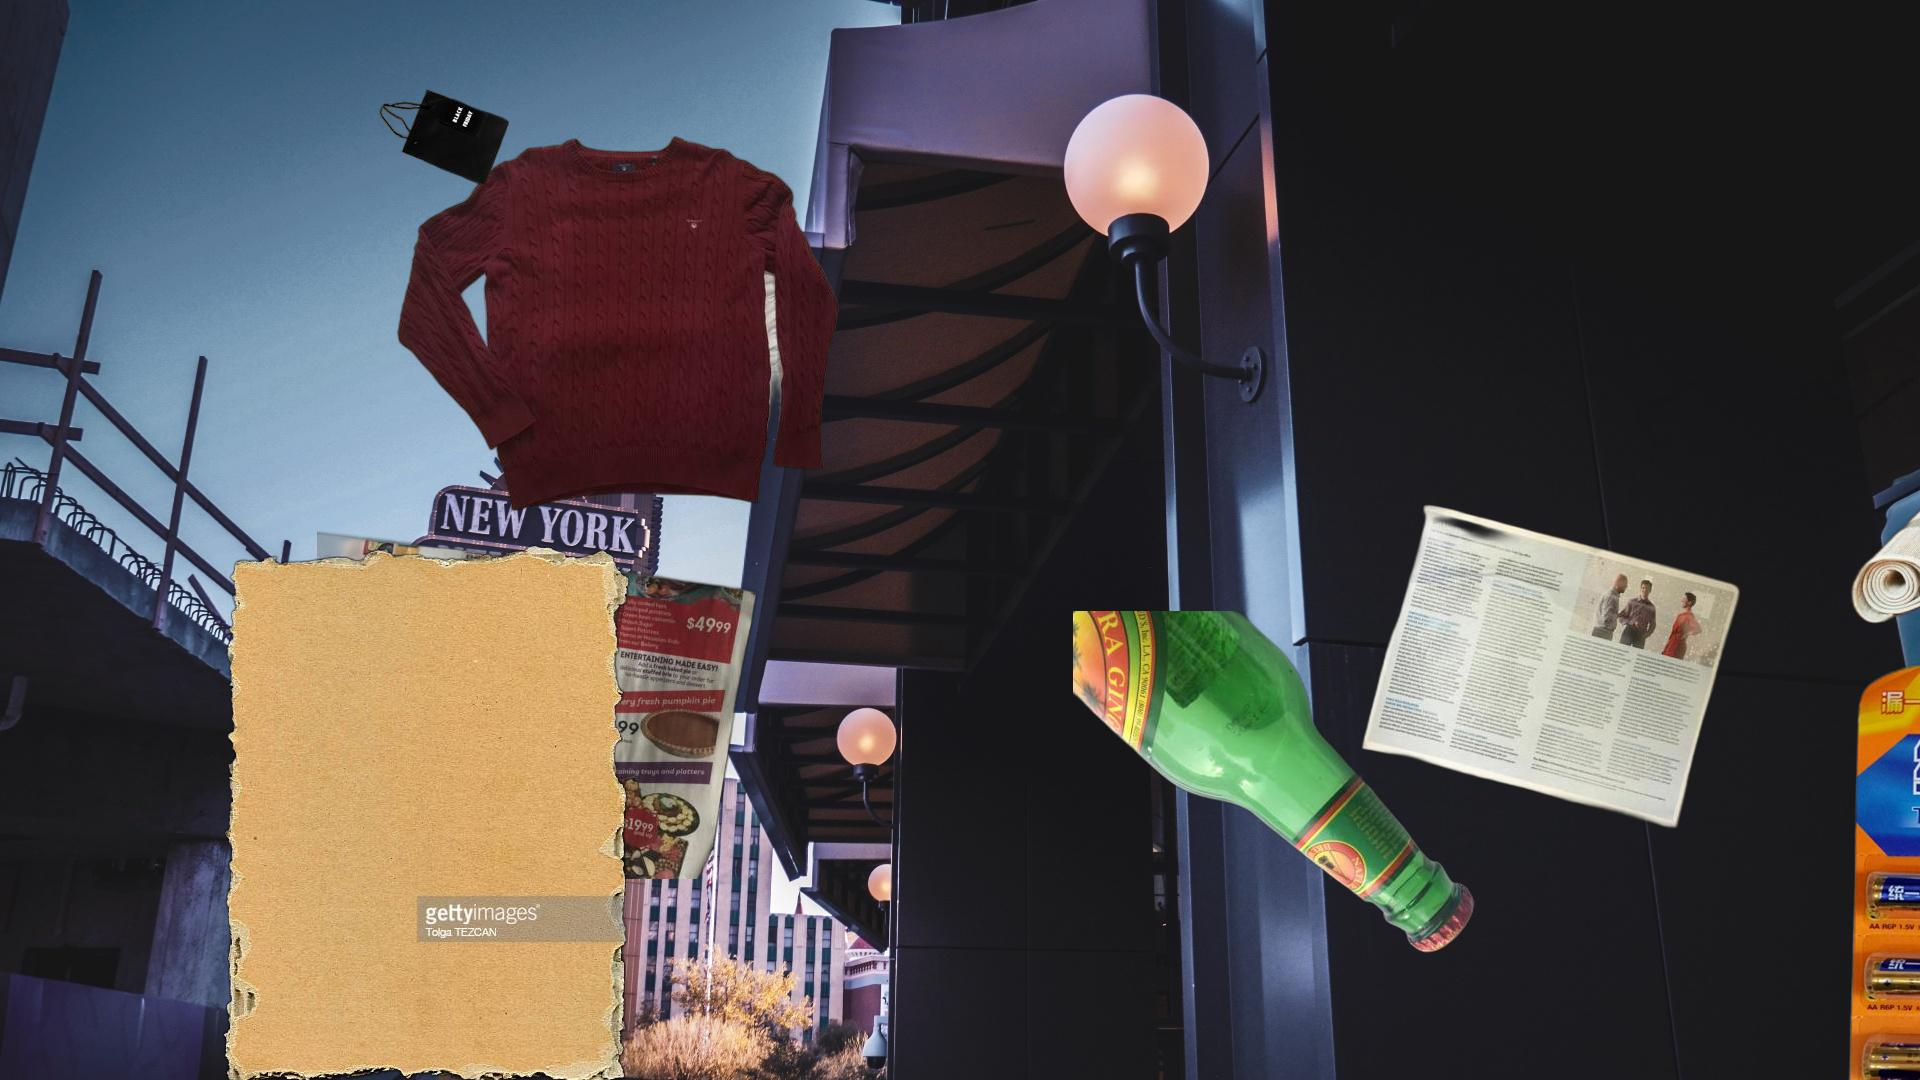battery: (1838, 650, 1920, 1080)
clothes: (394, 133, 844, 514)
glass: (1073, 611, 1478, 956)
paper: (316, 529, 762, 880), (1358, 502, 1745, 832)
paper-bag: (377, 87, 512, 187)
trashbox-cardboard: (219, 541, 634, 1080), (1607, 195, 1920, 642)
